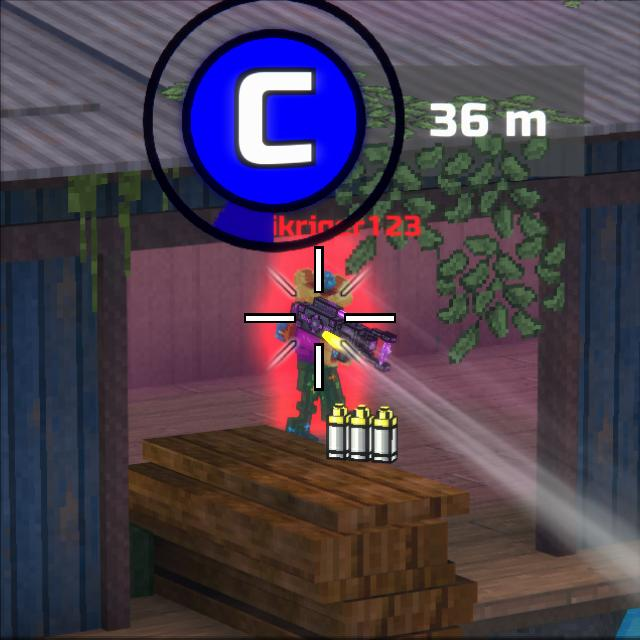Enemy: (276, 269, 382, 433)
